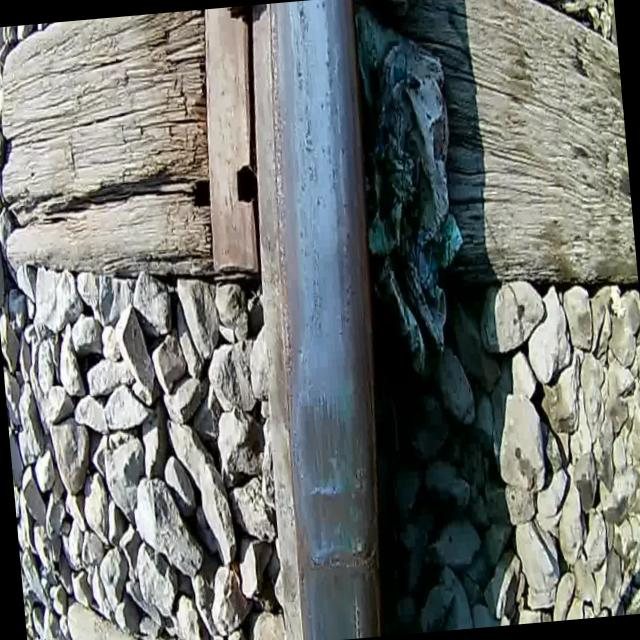Cracks: (304, 528, 386, 583)
Squats: (288, 386, 358, 494), (296, 480, 368, 549)
